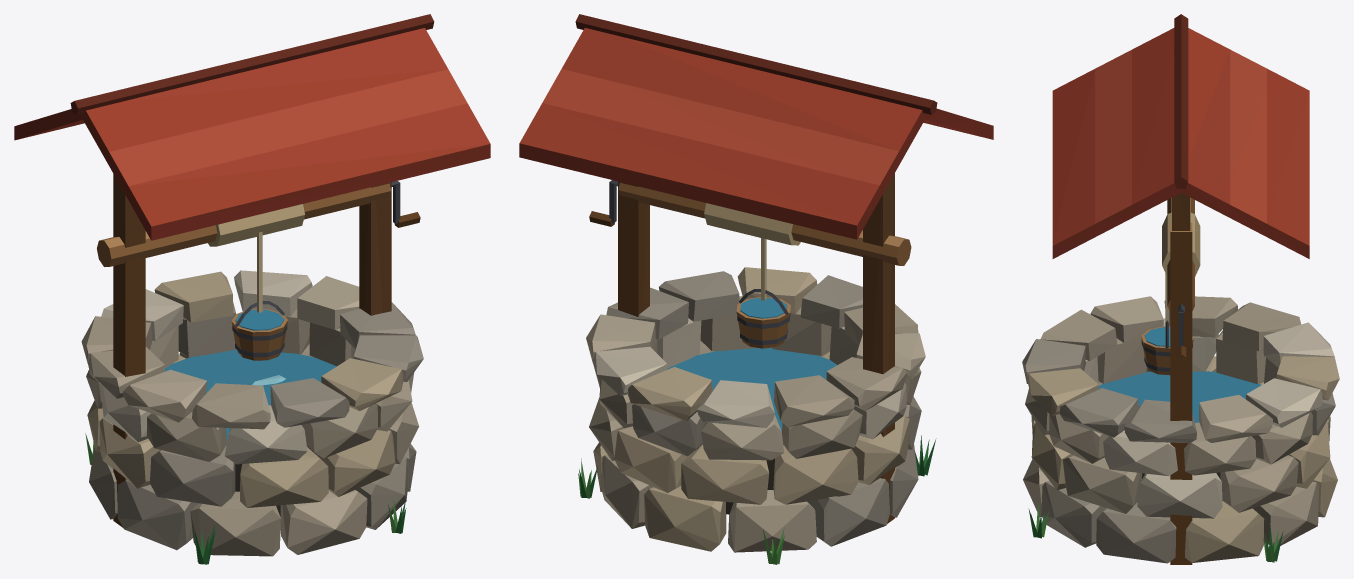
Rendered from well.glb.
3 renders of one model, left to right at view 1: azimuth 30°, elevation 25°; view 2: azimuth 150°, elevation 25°; view 3: azimuth 270°, elevation 25°, orthographic. The views are drawn at different scales.
Parts seen in each view (by area): view 1: base; view 2: base; view 3: base.
Part boxes in pixels (box(x1,y1,x2,y2)): base: box(14, 14, 490, 564); base: box(519, 14, 993, 564); base: box(1022, 14, 1339, 564).
Size of the model in its own units: 0.84 by 0.9828 by 0.6916.
